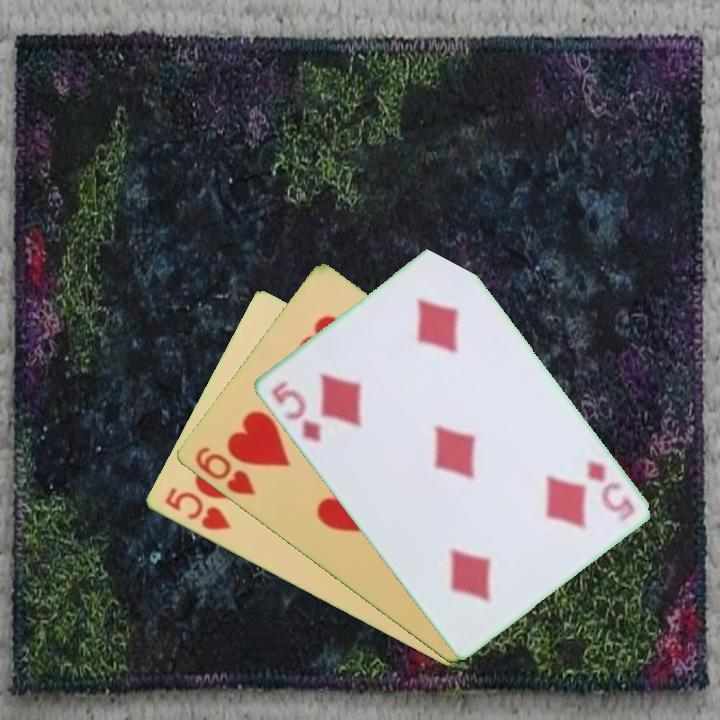5d: (267, 376, 324, 445), (582, 456, 638, 525)
5h: (160, 484, 234, 534)
6h: (191, 443, 258, 499)
